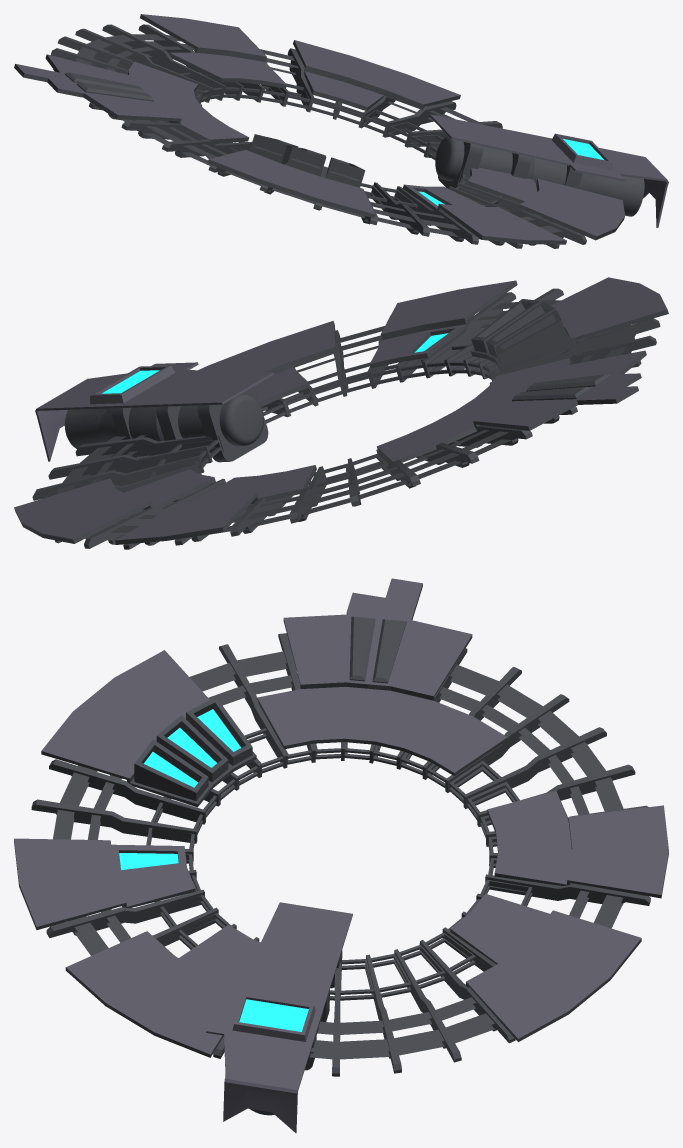
The model's file is orbital-ring.glb.
The picture shows the model from 3 angles, top to bottom: view 1: azimuth 30°, elevation 25°; view 2: azimuth 150°, elevation 25°; view 3: azimuth 270°, elevation 25°; orthographic projection. The views are drawn at different scales.
Visible parts, largest first — view 1: Circle.002, Circle.002_cell.062, Circle.002_cell.013, Circle.002_cell.080, Circle.002_cell.254, Circle.002_cell.223, Circle.002_cell.255, Circle.002_cell.036, Circle.002_cell.281, Circle.002_cell.046, Circle.002_cell.091, Circle.002_cell.229 (+19 smaller); view 2: Circle.002, Circle.002_cell.013, Circle.002_cell.062, Circle.002_cell.297, Circle.002_cell.254, Circle.002_cell.281, Circle.002_cell.223, Circle.002_cell.046, Circle.002_cell.032, Circle.002_cell.012, Circle.002_cell.036, Circle.002_cell.073 (+24 smaller); view 3: Circle.002, Circle.002_cell.013, Circle.002_cell.062, Circle.002_cell.297, Circle.002_cell.229, Circle.002_cell.036, Circle.002_cell.012, Circle.002_cell.281, Circle.002_cell.080, Circle.002_cell.037, Circle.002_cell.091, Circle.002_cell.015 (+17 smaller).
Part boxes in pixels (bbox=[...]): Circle.002: bbox=[14, 14, 668, 248]; Circle.002_cell.062: bbox=[468, 167, 623, 239]; Circle.002_cell.013: bbox=[209, 134, 374, 213]; Circle.002_cell.080: bbox=[160, 25, 275, 79]; Circle.002_cell.254: bbox=[435, 135, 512, 179]; Circle.002_cell.223: bbox=[302, 60, 374, 111]; Circle.002_cell.255: bbox=[532, 158, 644, 207]; Circle.002_cell.036: bbox=[347, 65, 402, 100]; Circle.002_cell.281: bbox=[491, 126, 590, 170]; Circle.002_cell.046: bbox=[488, 217, 566, 241]; Circle.002_cell.091: bbox=[461, 129, 551, 161]; Circle.002_cell.229: bbox=[598, 150, 658, 196]; Circle.002: bbox=[14, 277, 667, 549]; Circle.002_cell.013: bbox=[471, 279, 650, 370]; Circle.002_cell.062: bbox=[250, 323, 336, 406]; Circle.002_cell.297: bbox=[551, 277, 655, 335]; Circle.002_cell.254: bbox=[178, 393, 263, 444]; Circle.002_cell.281: bbox=[99, 362, 198, 406]; Circle.002_cell.223: bbox=[126, 469, 214, 512]; Circle.002_cell.046: bbox=[387, 286, 482, 322]; Circle.002_cell.032: bbox=[537, 366, 639, 422]; Circle.002_cell.012: bbox=[383, 309, 454, 364]; Circle.002_cell.036: bbox=[32, 485, 145, 522]; Circle.002_cell.073: bbox=[447, 280, 515, 337]; Circle.002: bbox=[14, 578, 668, 1132]; Circle.002_cell.013: bbox=[41, 650, 256, 806]; Circle.002_cell.062: bbox=[67, 925, 260, 1056]; Circle.002_cell.297: bbox=[42, 652, 209, 777]; Circle.002_cell.229: bbox=[240, 1018, 306, 1133]; Circle.002_cell.036: bbox=[481, 947, 573, 999]; Circle.002_cell.012: bbox=[76, 846, 190, 881]; Circle.002_cell.281: bbox=[217, 963, 335, 1031]; Circle.002_cell.080: bbox=[521, 793, 619, 880]; Circle.002_cell.037: bbox=[89, 879, 195, 908]; Circle.002_cell.091: bbox=[244, 923, 324, 977]; Circle.002_cell.015: bbox=[323, 636, 418, 745].
Bounding box in the file's own units: 19.32 × 7.57 × 17.52.
